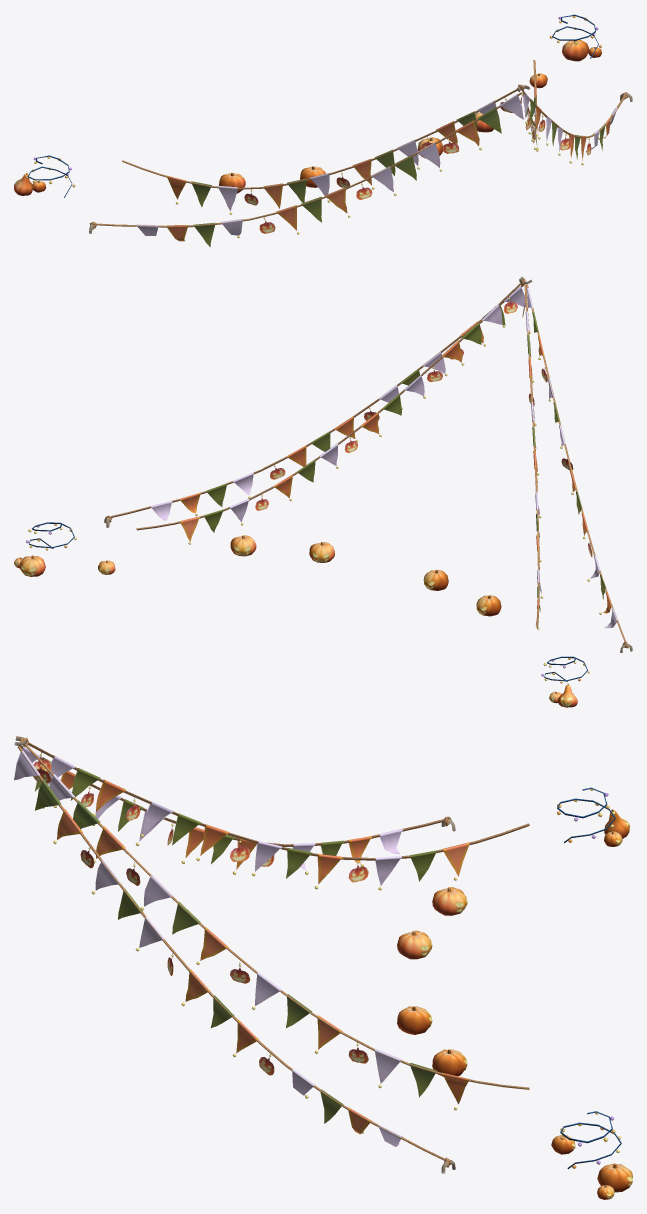
Rendered from pref_sm_4v4beachtech_WSJ_bk_decorate_T01_lv2.fbx.
The picture shows the model from 3 angles, top to bottom: view 1: azimuth 30°, elevation 25°; view 2: azimuth 150°, elevation 25°; view 3: azimuth 270°, elevation 25°; orthographic projection. The views are drawn at different scales.
Parts seen in each view (by area): view 1: sm_4v4beachtech_WSJ_bk_decorate_T01_a_lv2, sm_4v4beachtech_WSJ_bk_decorate_T01_b_lv2; view 2: sm_4v4beachtech_WSJ_bk_decorate_T01_a_lv2, sm_4v4beachtech_WSJ_bk_decorate_T01_b_lv2; view 3: sm_4v4beachtech_WSJ_bk_decorate_T01_a_lv2, sm_4v4beachtech_WSJ_bk_decorate_T01_b_lv2.
Boxes of the visible parts, x1,y1,x2,y2 form: sm_4v4beachtech_WSJ_bk_decorate_T01_a_lv2: (25,14,632,246); sm_4v4beachtech_WSJ_bk_decorate_T01_b_lv2: (14,39,601,195); sm_4v4beachtech_WSJ_bk_decorate_T01_a_lv2: (26,276,632,683); sm_4v4beachtech_WSJ_bk_decorate_T01_b_lv2: (14,535,577,707); sm_4v4beachtech_WSJ_bk_decorate_T01_a_lv2: (14,736,621,1173); sm_4v4beachtech_WSJ_bk_decorate_T01_b_lv2: (397,809,632,1199).
Bounding box in the file's own units: 34.23 × 11.72 × 24.02.
